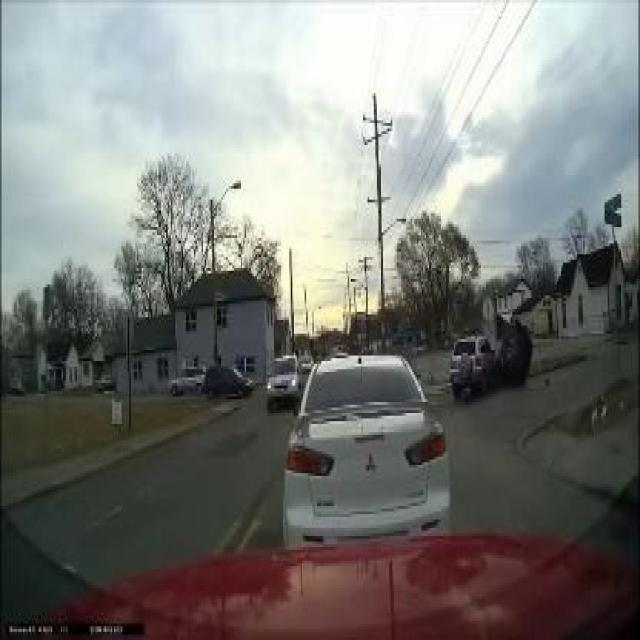accident: (448, 306, 534, 402)
